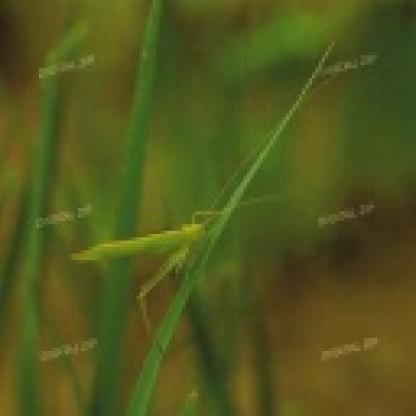grasshopper: (73, 201, 215, 336)
